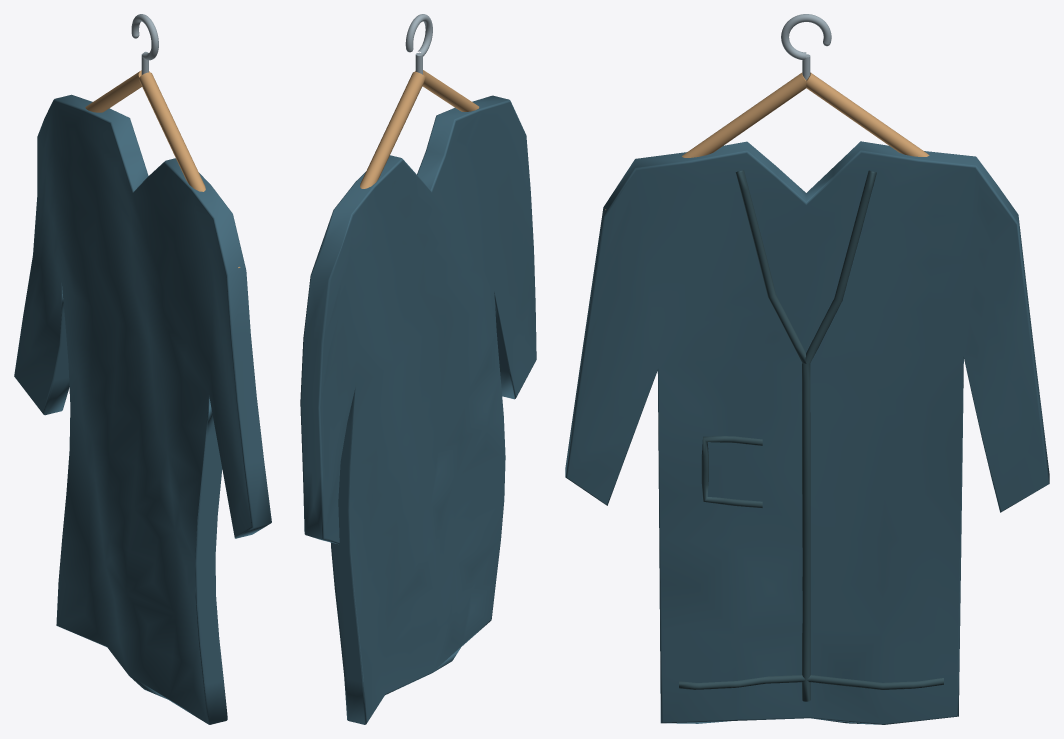
The picture shows the model from 3 angles, left to right: view 1: azimuth 30°, elevation 25°; view 2: azimuth 150°, elevation 25°; view 3: azimuth 270°, elevation 25°; orthographic projection. The views are drawn at different scales.
Visible parts, largest first — view 1: garment-cloth, garment-hanger, hanger-hook; view 2: garment-cloth, garment-hanger, hanger-hook; view 3: garment-cloth, garment-seams, garment-hanger, hanger-hook.
Boxes of the visible parts, x1,y1,x2,y2 form: garment-cloth: (14, 94, 271, 724); garment-hanger: (85, 70, 240, 268); hanger-hook: (131, 14, 158, 74); garment-cloth: (300, 95, 536, 724); garment-hanger: (360, 70, 479, 188); hanger-hook: (405, 14, 432, 74); garment-cloth: (565, 141, 1049, 724); garment-seams: (679, 170, 943, 701); garment-hanger: (605, 72, 929, 209); hanger-hook: (781, 14, 831, 80).
Bounding box in the file's own units: 0.0428 × 0.6749 × 0.4221.
